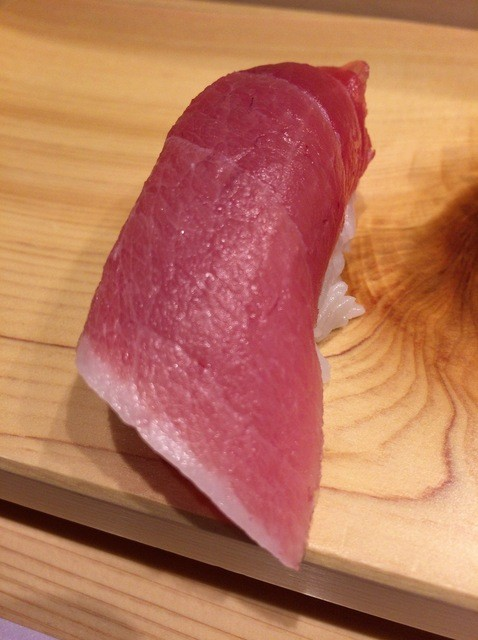medium_fatty_tuna: (76, 59, 379, 577)
